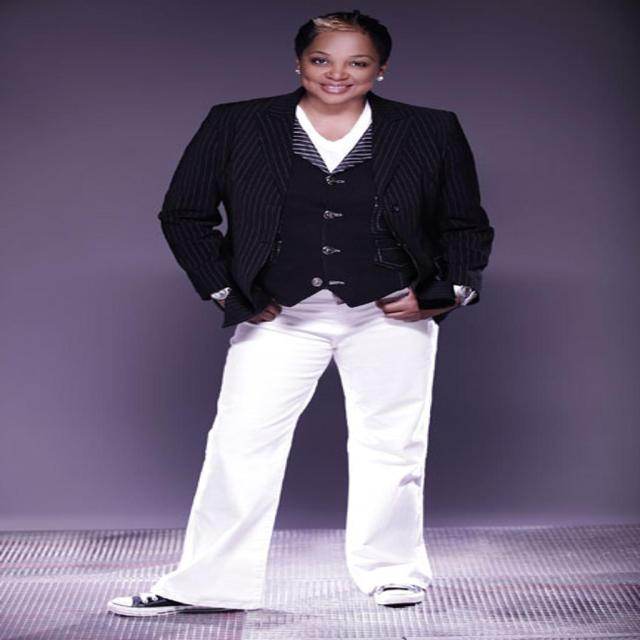Face: (273, 15, 401, 108)
